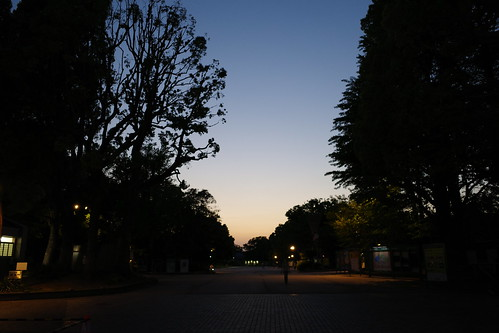sky: (170, 1, 360, 198)
tree: (60, 19, 222, 298), (353, 1, 499, 293)
